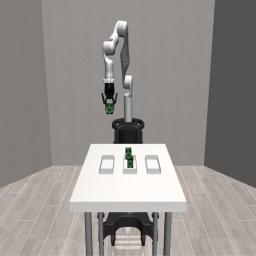cube1: (126, 147, 132, 160)
cube2: (127, 156, 134, 168)
cube3: (106, 102, 113, 114)
